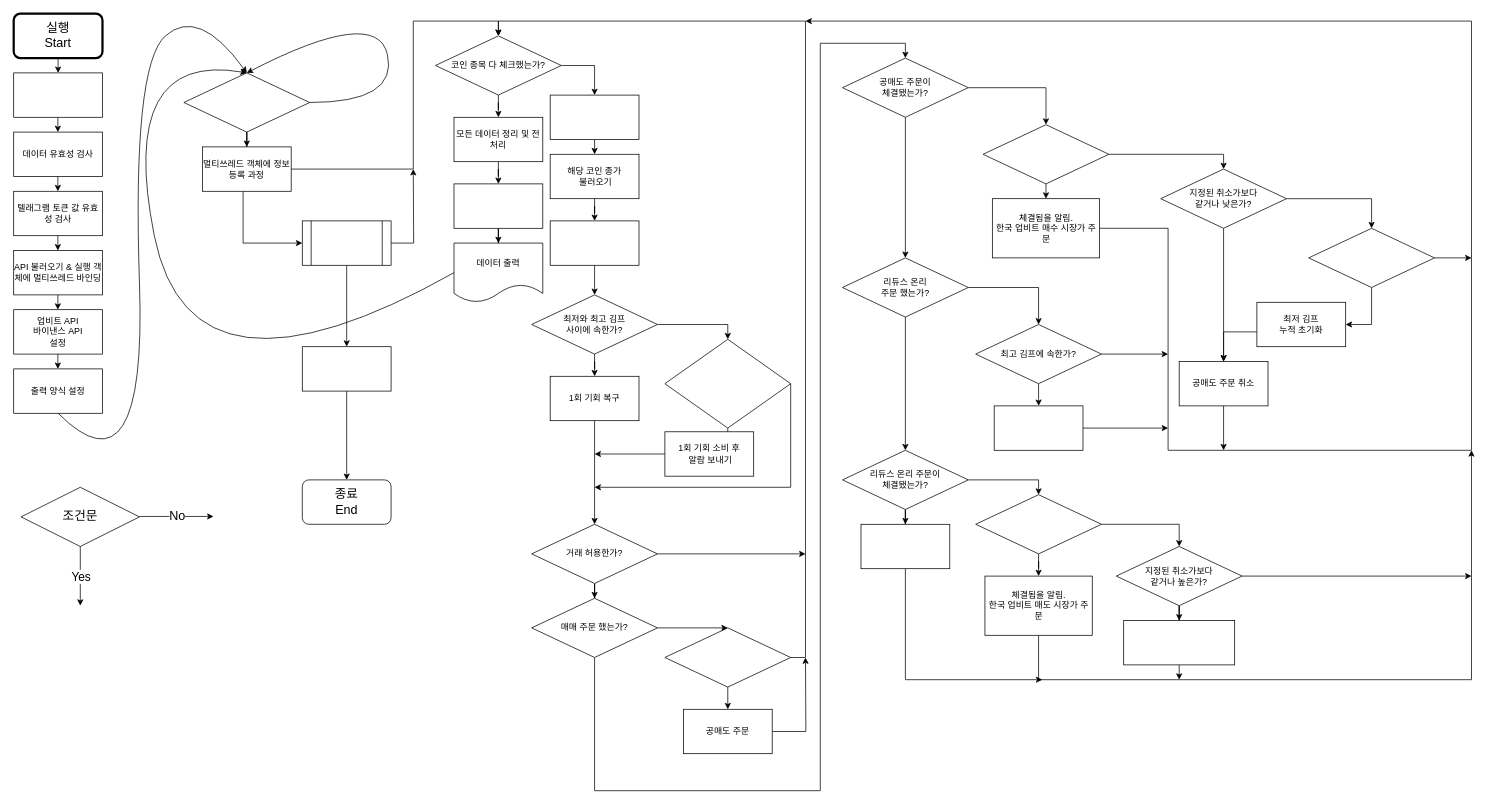
This 1490x810 diagram has some shape labels left out. Here are the shapes that lost their labels. From the top down, the box of each, then its label:
(13, 72, 102, 117): Setting 데이터 불러오기
(183, 72, 310, 132): 환율 정보 Request 성공했는가?
(549, 94, 639, 139): 몇 번째 종목 체크
(982, 124, 1109, 184): 현재 가격이 지정된 체결가보다 높은가?
(453, 183, 543, 228): 출력 데이터 양식에 맞게 가공
(302, 220, 391, 265): 에러 발생 및 종료 버튼 탐지
(549, 220, 639, 265): 환율 처리 및 김프 계산 후 출력 정보 저장
(1308, 228, 1434, 287): 최저 김프를 2번이상 도달했는가?
(302, 346, 391, 391): 멀티쓰레드 안전하게 종료
(664, 339, 791, 428): 해당 코인 알람이 켜져있는가? 1회 기회가 있는가?
(993, 405, 1083, 450): 리듀스 온리 주문
(975, 494, 1101, 554): 현재 가격이 지정된 체결가보다 낮은가?
(860, 524, 950, 569): 로그 기록 후 초기화
(664, 627, 791, 687): 최저 김프에 속한가?
(1123, 620, 1235, 665): 리듀스 온리 주문 취소
